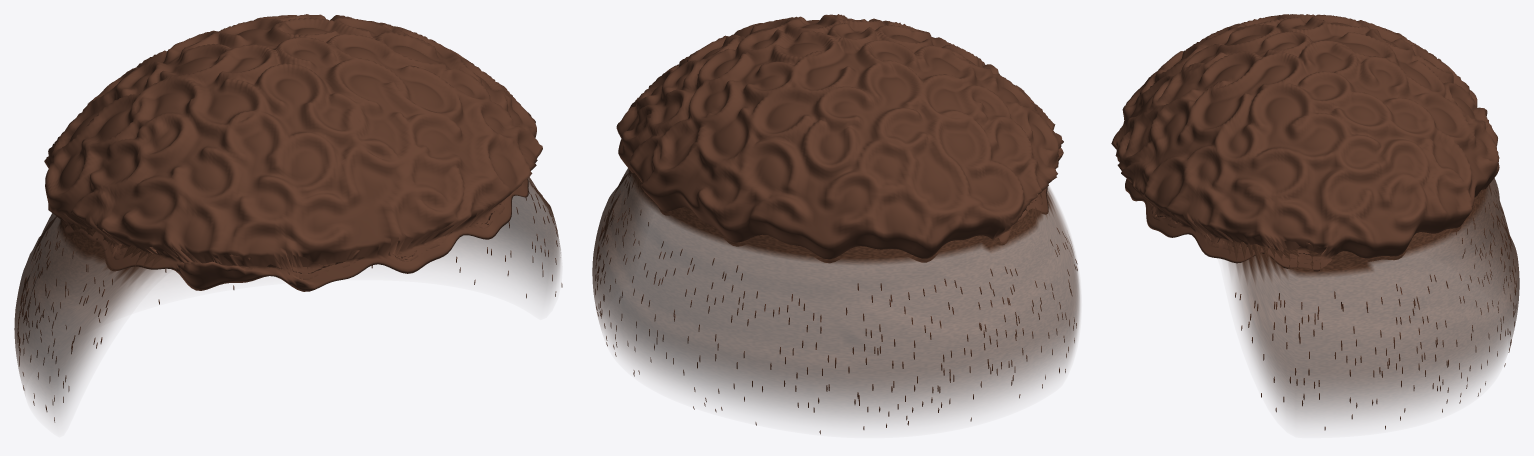
The model's file is Masculine-curly-top-headband251-hair.glb.
3 renders of one model, left to right at view 1: azimuth 30°, elevation 25°; view 2: azimuth 150°, elevation 25°; view 3: azimuth 270°, elevation 25°, orthographic. The views are drawn at different scales.
Visible parts, largest first — view 1: 226 hair / Hair / sculpted curly crown251.001, 226 hair / Hair / clipped grain251.001, 226 hair / Hair / close cut strokes251.001; view 2: 226 hair / Hair / clipped grain251.001, 226 hair / Hair / sculpted curly crown251.001, 226 hair / Hair / close cut strokes251.001; view 3: 226 hair / Hair / sculpted curly crown251.001, 226 hair / Hair / clipped grain251.001, 226 hair / Hair / close cut strokes251.001.
Part boxes in pixels (bbox=[...]): 226 hair / Hair / sculpted curly crown251.001: bbox=[44, 14, 542, 291]; 226 hair / Hair / clipped grain251.001: bbox=[14, 177, 560, 418]; 226 hair / Hair / close cut strokes251.001: bbox=[17, 181, 562, 422]; 226 hair / Hair / clipped grain251.001: bbox=[592, 168, 1080, 422]; 226 hair / Hair / sculpted curly crown251.001: bbox=[616, 14, 1063, 262]; 226 hair / Hair / close cut strokes251.001: bbox=[595, 173, 1077, 434]; 226 hair / Hair / sculpted curly crown251.001: bbox=[1111, 14, 1499, 271]; 226 hair / Hair / clipped grain251.001: bbox=[1157, 178, 1519, 422]; 226 hair / Hair / close cut strokes251.001: bbox=[1235, 192, 1516, 430].
Bounding box in the file's own units: 0.9812 × 0.6609 × 0.7928.
3 materials, 1 textured.
